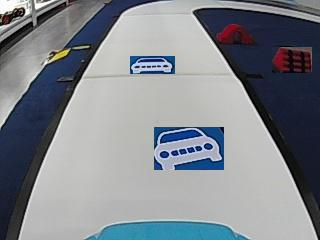bridge: (217, 23, 253, 44)
